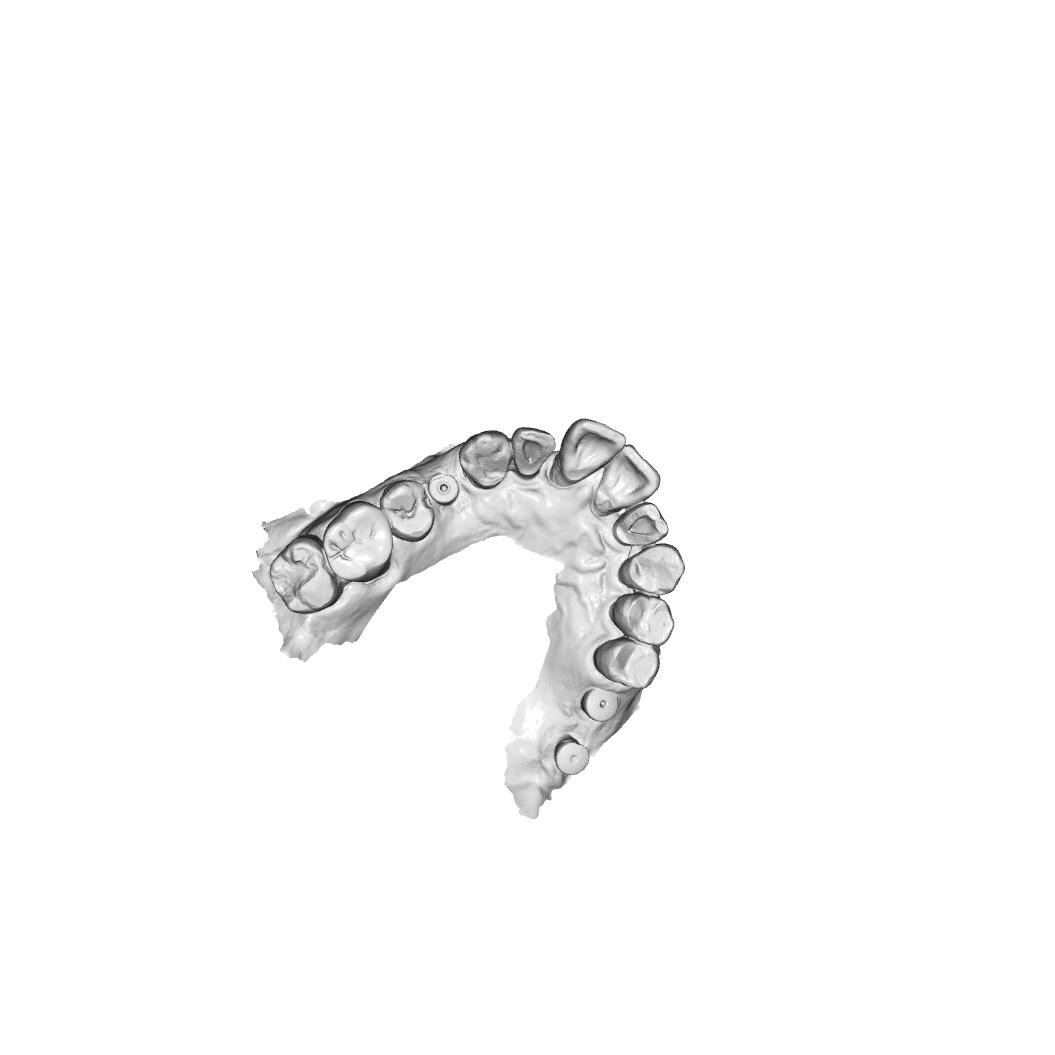canine: (618, 542, 686, 595), (458, 429, 514, 490)
implant: (553, 737, 591, 776), (580, 688, 619, 722), (427, 472, 460, 507)
incisor: (592, 443, 661, 516), (558, 417, 627, 484), (612, 502, 669, 547), (510, 427, 556, 478)
molar: (268, 533, 344, 616), (321, 500, 394, 583)
premolar: (592, 636, 660, 690), (380, 479, 436, 543), (612, 592, 675, 647)
